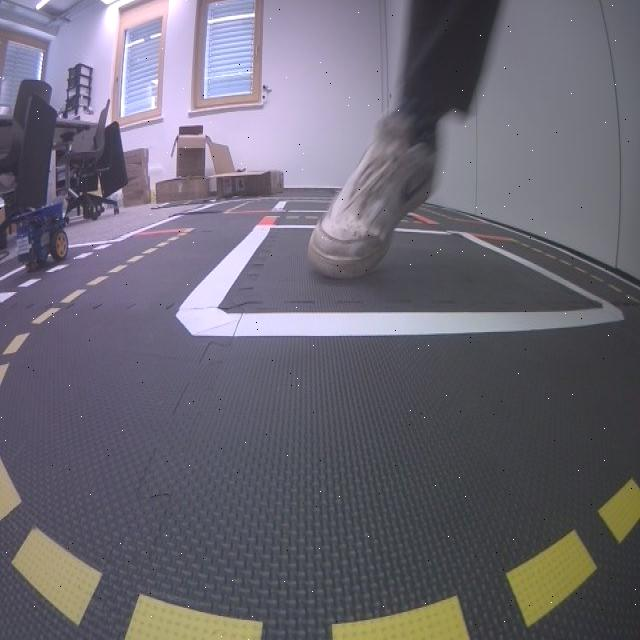bot: (9, 200, 72, 269)
park: (1, 241, 119, 304)
